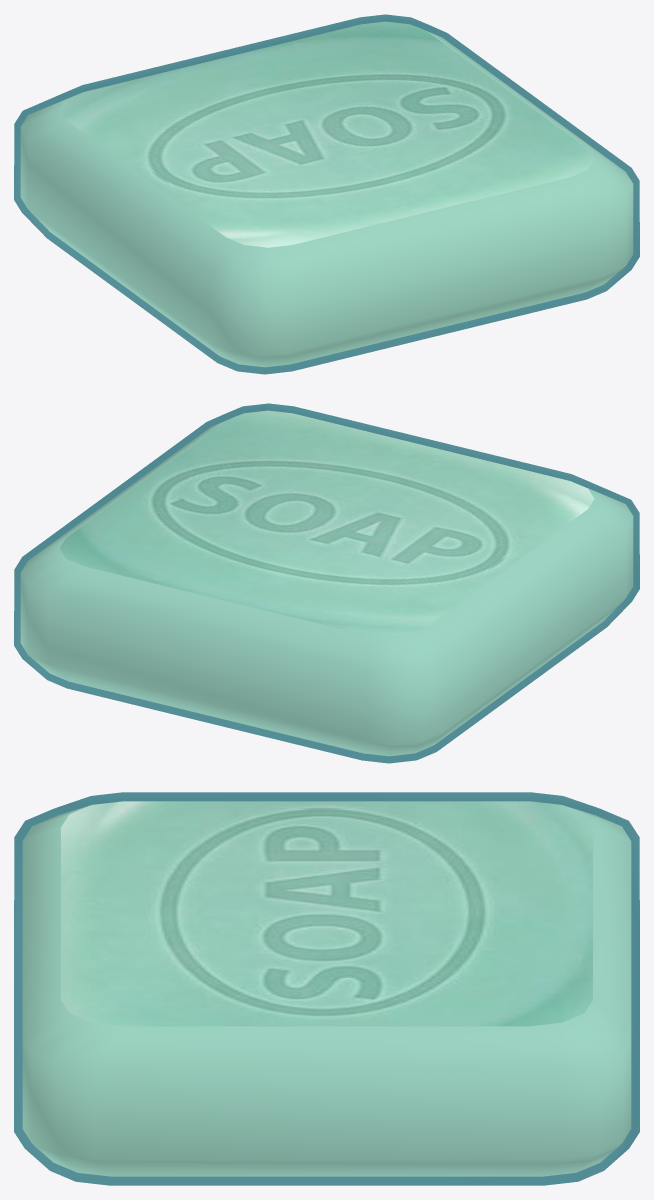
The model's file is soat.glb.
The picture shows the model from 3 angles, top to bottom: view 1: azimuth 30°, elevation 25°; view 2: azimuth 150°, elevation 25°; view 3: azimuth 270°, elevation 25°; orthographic projection. The views are drawn at different scales.
Visible parts, largest first — view 1: Cube; view 2: Cube; view 3: Cube.
Boxes of the visible parts, left/top/right/bottom form: Cube: left=14, top=14, right=639, bottom=374; Cube: left=14, top=403, right=639, bottom=763; Cube: left=14, top=792, right=639, bottom=1185.
Size of the model in its own units: 2.06 by 0.5754 by 2.06.
Materials: 2 (1 with a texture image).
